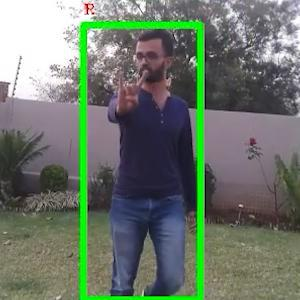takeoff-hand: (107, 63, 154, 112)
